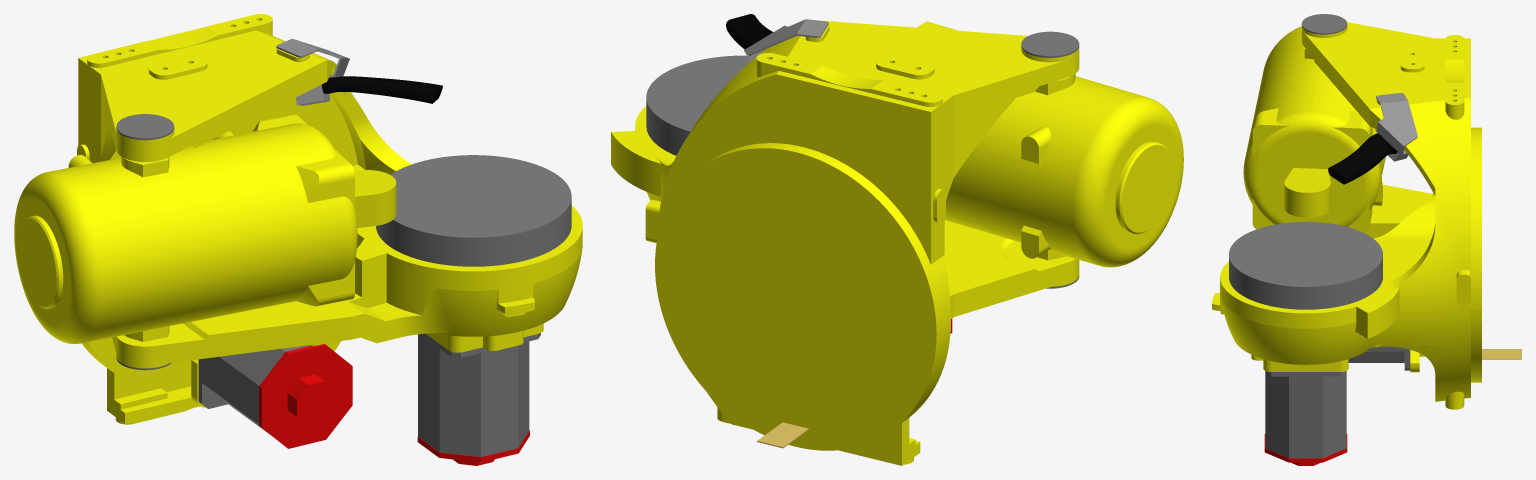
The picture shows the model from 3 angles, left to right: view 1: azimuth 30°, elevation 25°; view 2: azimuth 150°, elevation 25°; view 3: azimuth 270°, elevation 25°; orthographic projection. The views are drawn at different scales.
Visible parts, largest first — view 1: Mesh_0; view 2: Mesh_0; view 3: Mesh_0.
Boxes of the visible parts, x1=… form: Mesh_0: x1=14, y1=14, x2=582, y2=465; Mesh_0: x1=611, y1=14, x2=1183, y2=465; Mesh_0: x1=1212, y1=14, x2=1521, y2=465.
Bounding box in the file's own units: 0.991 × 0.7291 × 0.6535.
